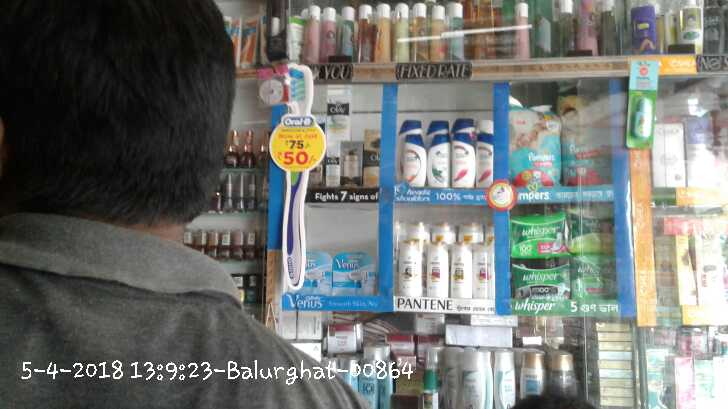venus: (335, 251, 374, 295), (303, 251, 333, 297)
